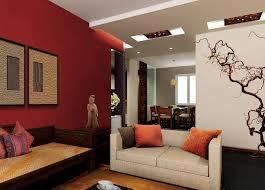chair: (177, 107, 197, 127), (155, 106, 172, 128), (174, 103, 192, 122), (151, 105, 161, 120)
light: (204, 19, 228, 31), (169, 24, 185, 39), (132, 32, 149, 46), (170, 75, 179, 90), (261, 11, 265, 23), (134, 50, 142, 56), (170, 45, 175, 53)
sofa: (108, 124, 226, 190), (0, 125, 96, 185)
table: (79, 125, 111, 159), (161, 104, 189, 126), (87, 180, 139, 190)
